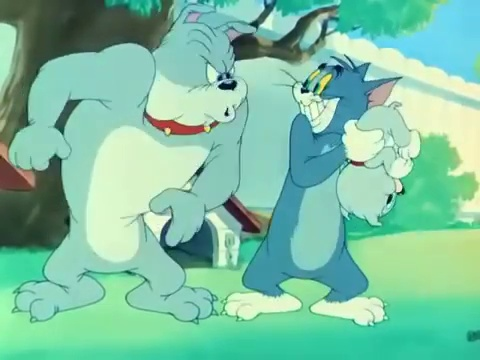spike: (140, 1, 255, 137)
